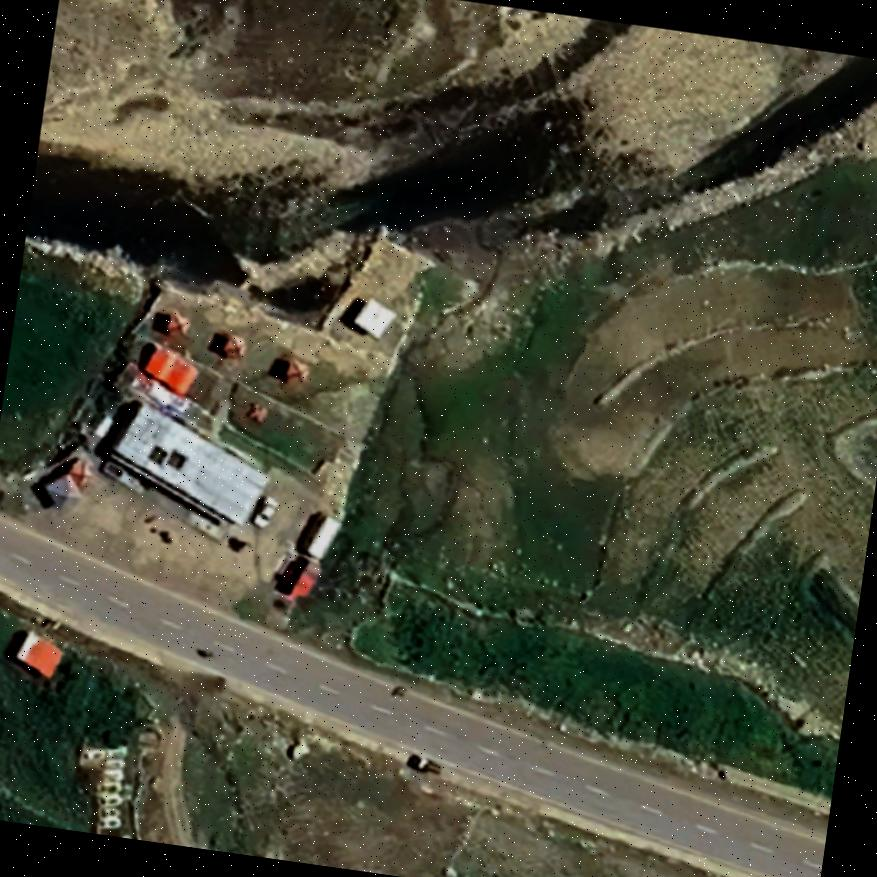Solarpanel: (140, 438, 190, 474)
